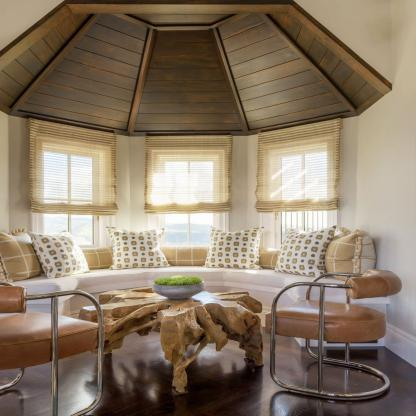chair: (258, 268, 406, 407), (0, 277, 114, 416)
sofa: (0, 230, 392, 314)
table: (80, 287, 265, 394)
